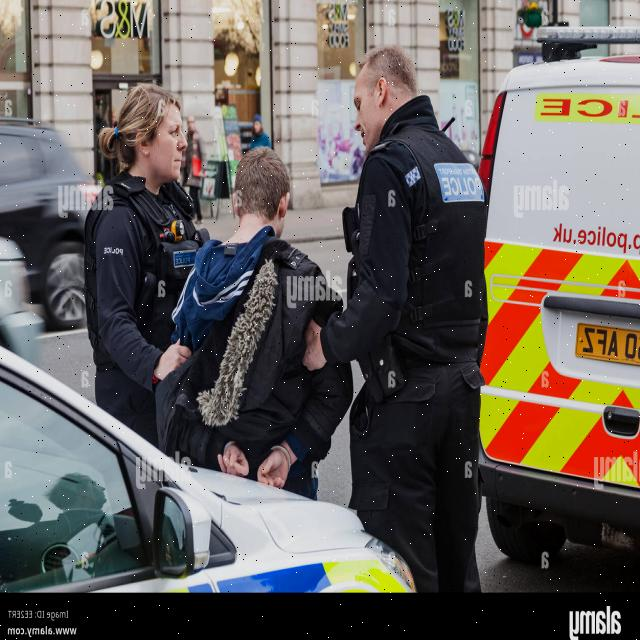police: (316, 31, 482, 638), (71, 79, 209, 478)
